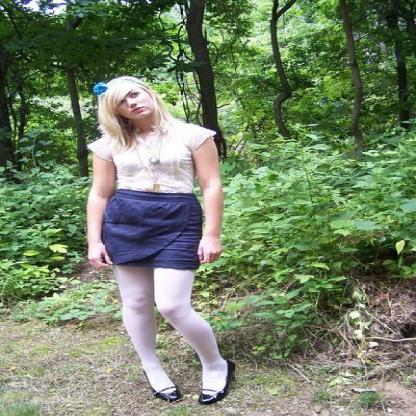shirt: (87, 115, 216, 193)
shoe: (148, 374, 226, 394)
skirt: (101, 189, 207, 271)
